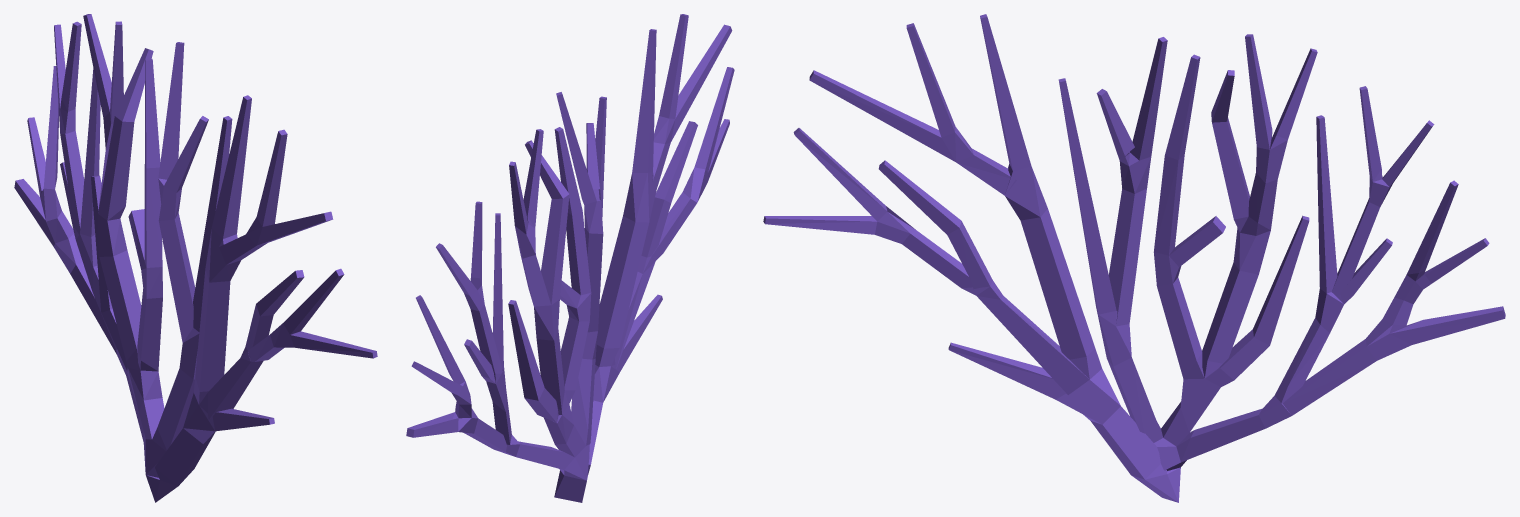
The model's file is coral-7.gltf.
3 renders of one model, left to right at view 1: azimuth 30°, elevation 25°; view 2: azimuth 150°, elevation 25°; view 3: azimuth 270°, elevation 25°, orthographic. The views are drawn at different scales.
Visible parts, largest first — view 1: Coral.006; view 2: Coral.006; view 3: Coral.006.
Boxes of the visible parts, box(x1,y1,x2,y2) form: Coral.006: box(14, 14, 377, 502); Coral.006: box(406, 14, 734, 502); Coral.006: box(763, 14, 1505, 502).
Bounding box in the file's own units: 0.0508 × 0.3877 × 0.5373.
